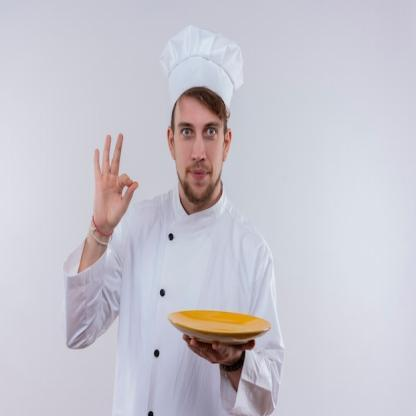ok: (90, 128, 140, 233)
